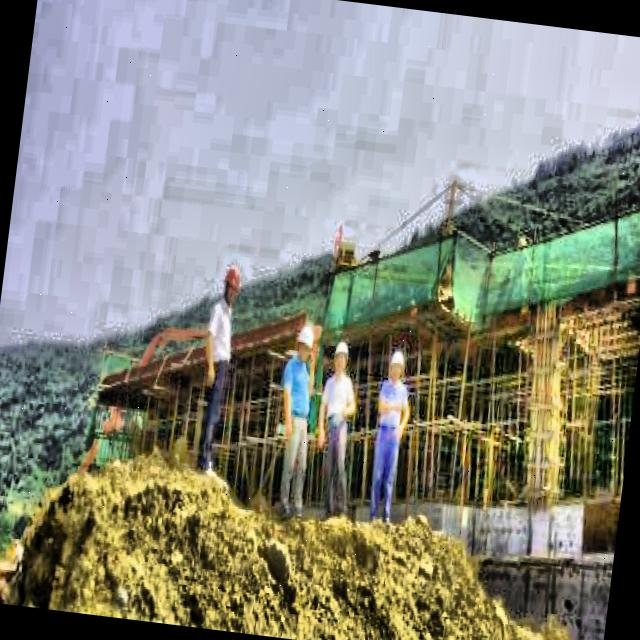helmet: (218, 261, 244, 309), (292, 320, 316, 366), (386, 344, 408, 382), (330, 334, 349, 374)
